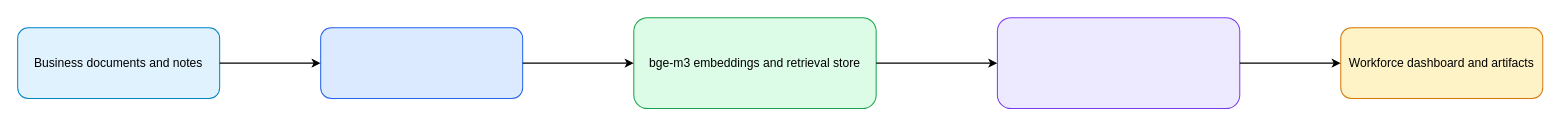
This 1560x126 diagram has some shape labels left out. The centre of each missing label's shape, as x and y in pixels:
Chunking and artifact prep: the point at 421,62
Qwen 2.5 Instruct knowledge-backed briefing: the point at 1118,63
